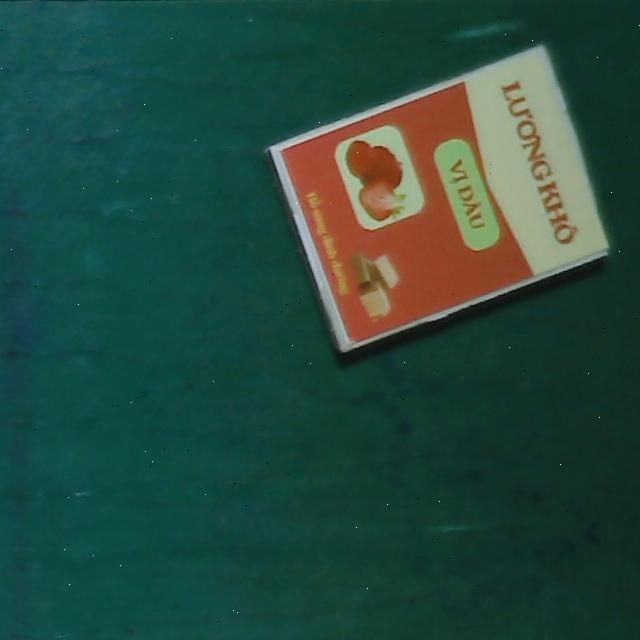dau: (261, 43, 624, 359)
